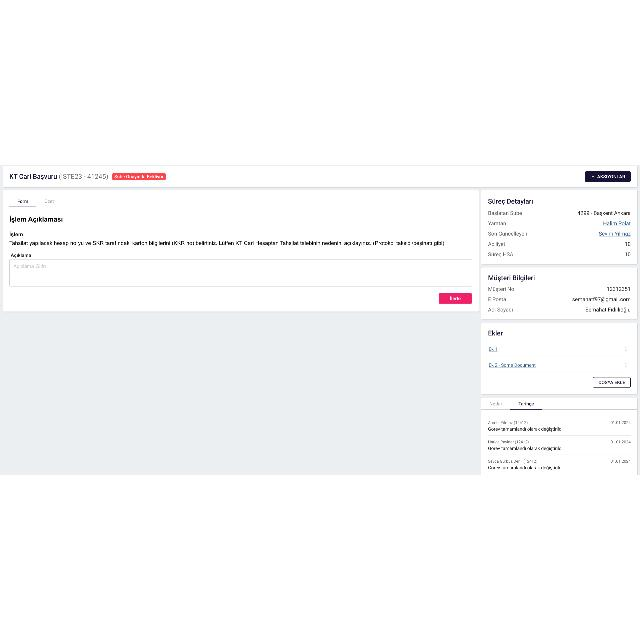QLabel: (8, 240, 446, 247), (9, 214, 63, 223), (488, 446, 562, 452), (59, 173, 108, 181), (488, 198, 532, 206), (9, 173, 57, 180), (577, 210, 631, 216), (114, 174, 164, 180), (488, 428, 562, 432), (488, 466, 562, 470), (488, 362, 536, 368), (488, 276, 534, 282), (488, 420, 528, 426), (572, 298, 630, 302), (488, 210, 522, 216), (488, 460, 538, 464), (586, 308, 630, 312), (488, 440, 528, 444), (488, 252, 514, 258), (488, 286, 514, 292), (488, 232, 526, 236), (608, 286, 630, 292), (599, 232, 631, 236), (602, 222, 632, 226), (597, 175, 625, 179), (598, 381, 626, 385), (488, 220, 506, 226), (488, 308, 512, 312), (9, 232, 23, 238), (488, 330, 502, 336), (11, 254, 31, 258), (610, 421, 630, 425), (610, 440, 630, 444), (610, 460, 630, 464), (488, 242, 506, 246), (488, 297, 506, 301), (17, 198, 28, 204), (518, 402, 534, 406), (44, 198, 54, 204), (489, 402, 503, 406), (450, 296, 460, 300), (488, 348, 498, 352), (625, 242, 631, 246), (625, 252, 631, 256)
VBtn: (585, 171, 631, 183), (593, 378, 631, 388), (438, 294, 472, 304)
VCard: (2, 166, 638, 188), (480, 190, 638, 264), (482, 323, 638, 395), (480, 268, 638, 320)
VChip: (112, 173, 166, 181)
VDivider: (488, 454, 630, 456), (488, 356, 630, 358), (489, 372, 629, 374), (488, 436, 630, 436)
VIcon: (591, 176, 595, 178), (625, 347, 627, 351), (625, 363, 627, 367)
VTabs: (2, 190, 480, 312), (481, 397, 637, 475)
VTextarea: (10, 259, 472, 287)
